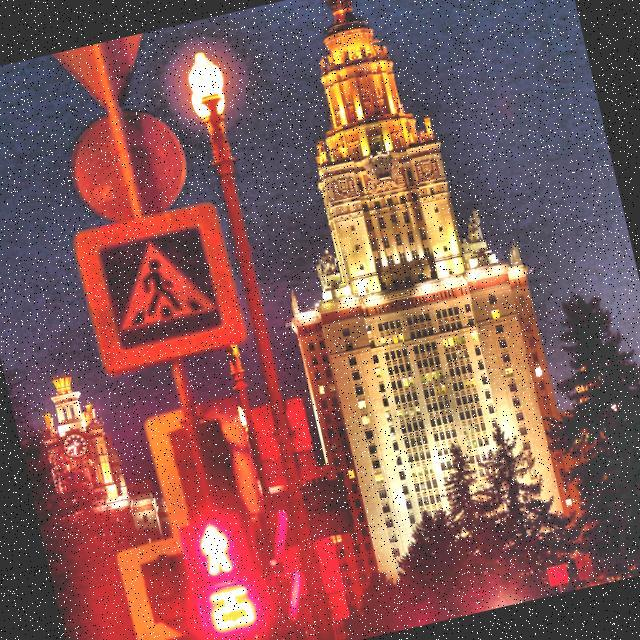red_light: (192, 518, 238, 582)
